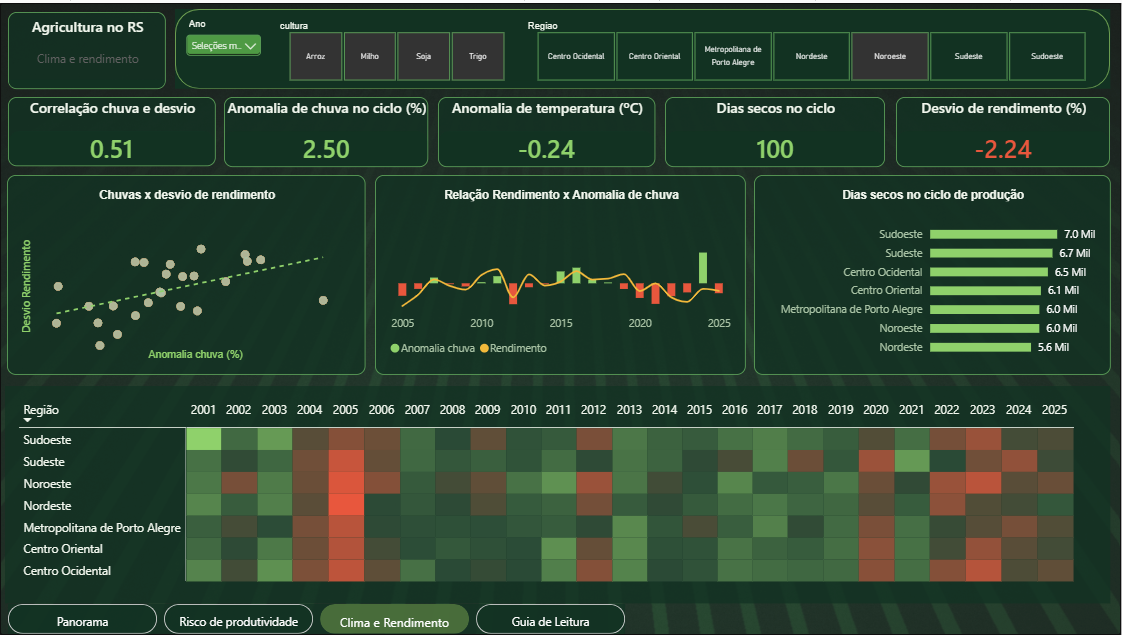

What the dashboard file says about the page in this screenshot:
{"tool":"powerbi","page":{"name":"Clima e Rendimento","canvas":[1280,720],"ordinal":2},"visuals":[{"type":"scatterChart","title":"Chuvas x desvio de rendimento","fields":{"Category":["dim_ano.ano"],"Series":["dim_municipio.mesorregiao"],"X":["_Medidas.anomalia_chuva_ciclo_pct"],"Y":["_Medidas.desvio_rendimento"]},"box":[8.4,196.6,409,228],"z":0},{"type":"lineClusteredColumnComboChart","title":"Relação Rendimento x Anomalia de chuva","fields":{"Category":["dim_ano.ano"],"Y":["_Medidas.anomalia_chuva_ciclo_pct"],"Y2":["_Medidas.desvio_rendimento"]},"box":[428.3,196.6,423.5,228],"z":1000},{"type":"cardVisual","title":"Correlação chuva e desvio","fields":{"Data":["_Medidas.correlacao_chuva_desvio"]},"box":[8.9,106.7,236.7,78.9],"z":2000},{"type":"clusteredColumnChart","fields":{"Category":["dim_mesorregiao.mesorregiao"],"Y":["Avg(clima_ciclo_x_rendimento.dias_secos_ciclo)"]},"box":[510,753.3,561.7,326.7],"z":3000},{"type":"shape","title":"Agricultura no RS","box":[8.8,10,180,87.5],"z":4000},{"type":"shape","box":[200,6.7,1066.7,91.1],"z":5000},{"type":"slicer","fields":{"Values":["dim_ano.ano"]},"box":[207.5,17.5,95,56.2],"z":6000},{"type":"slicer","title":"Região","fields":{"Values":["dim_mesorregiao.mesorregiao"]},"box":[594.4,18.9,663.3,68.9],"z":7000},{"type":"slicer","fields":{"Values":["dim_cultura.cultura"]},"box":[311.1,18.9,282.5,68.8],"z":8000},{"type":"barChart","title":"Dias secos no ciclo de produção","fields":{"Category":["dim_mesorregiao.mesorregiao"],"Y":["Sum(clima_ciclo_x_rendimento.dias_secos_ciclo)"]},"box":[860.2,196.6,406.6,228],"z":9000},{"type":"cardVisual","title":"Anomalia de chuva no ciclo (%)","fields":{"Data":["_Medidas.anomalia_chuva_ciclo_pct"]},"box":[255.6,106.7,233.3,80],"z":10000},{"type":"cardVisual","title":"Anomalia de temperatura (ºC)","fields":{"Data":["_Medidas.anomalia_temp_ciclo"]},"box":[500,106.7,247.8,80],"z":11000},{"type":"cardVisual","title":"Dias secos no ciclo","fields":{"Data":["_Medidas.dias_secos_ciclo"]},"box":[758.9,106.7,251.1,80],"z":12000},{"type":"cardVisual","title":"Desvio de rendimento (%)","fields":{"Data":["_Medidas.desvio_rendimento"]},"box":[1022.2,106.7,244.4,80],"z":13000},{"type":"pageNavigator","box":[9.2,685.9,704.3,34.1],"z":14000},{"type":"pivotTable","fields":{"Columns":["serie_rendimento_regiao.ano"],"Rows":["dim_mesorregiao.mesorregiao"],"Values":["Avg(serie_rendimento_regiao.desvio_pct)"]},"box":[5.5,436.4,1261.1,248.4],"z":15000}]}

Visuals, with their boxes in screenshot pixels (x1, y1, x2, y2), scaled from the page's 1280x720 canvas onto the 1122x635 screenshot:
"Chuvas x desvio de rendimento" scatterChart: crop(7, 173, 366, 374)
"Relação Rendimento x Anomalia de chuva" lineClusteredColumnComboChart: crop(375, 173, 747, 374)
"Correlação chuva e desvio" cardVisual: crop(8, 94, 215, 164)
"Agricultura no RS" shape: crop(8, 9, 165, 86)
shape: crop(175, 6, 1110, 86)
slicer - dim_ano.ano: crop(182, 15, 265, 65)
"Região" slicer: crop(521, 17, 1102, 77)
slicer - dim_cultura.cultura: crop(273, 17, 520, 77)
"Dias secos no ciclo de produção" barChart: crop(754, 173, 1110, 374)
"Anomalia de chuva no ciclo (%)" cardVisual: crop(224, 94, 429, 165)
"Anomalia de temperatura (ºC)" cardVisual: crop(438, 94, 655, 165)
"Dias secos no ciclo" cardVisual: crop(665, 94, 885, 165)
"Desvio de rendimento (%)" cardVisual: crop(896, 94, 1110, 165)
pageNavigator: crop(8, 605, 625, 634)
pivotTable - serie_rendimento_regiao.ano x dim_mesorregiao.mesorregiao: crop(5, 385, 1110, 604)
